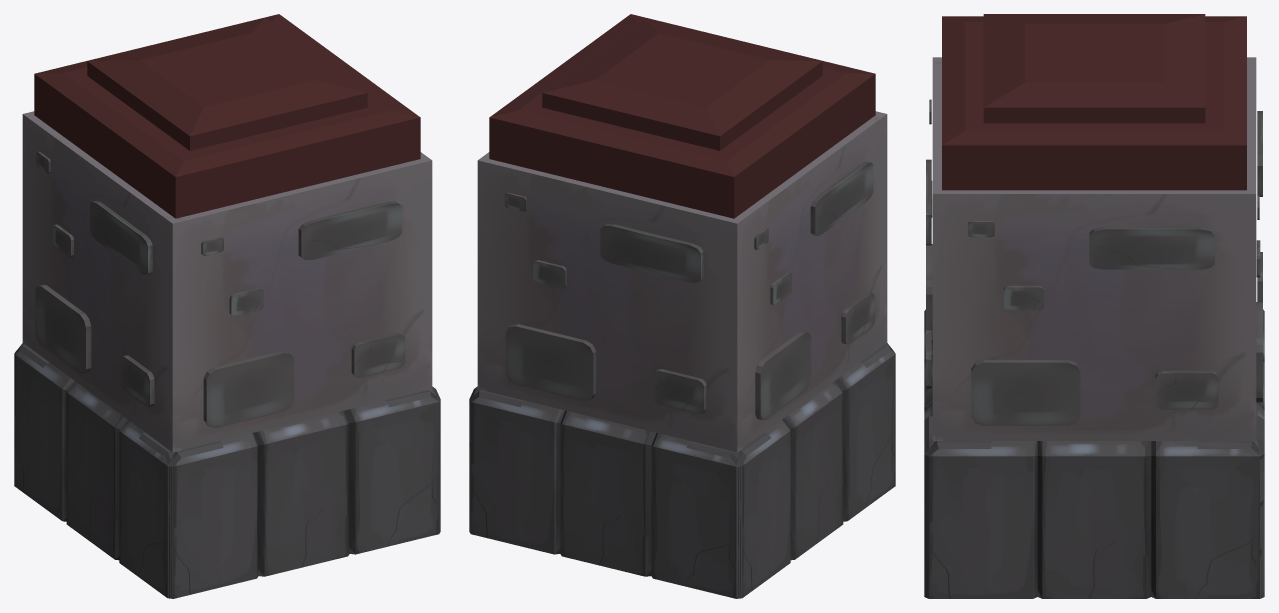
File: WallFixed2.fbx
3 views of the same model, side by side, from view 1: azimuth 30°, elevation 25°; view 2: azimuth 150°, elevation 25°; view 3: azimuth 270°, elevation 25° (orthographic). The views are drawn at different scales.
Visible parts, largest first — view 1: Cube.003; view 2: Cube.003; view 3: Cube.003.
Boxes of the visible parts, x1=… form: Cube.003: x1=14, y1=14, x2=440, y2=598; Cube.003: x1=469, y1=14, x2=895, y2=598; Cube.003: x1=924, y1=14, x2=1264, y2=598.
Size of the model in its own units: 100 by 153 by 100.
2 materials, 1 textured.
